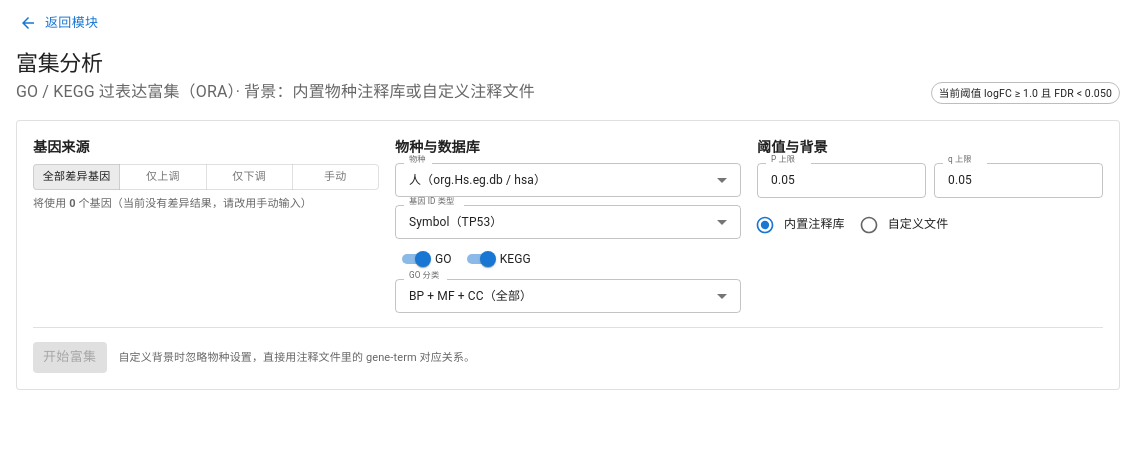
Test case: EnrichPage 运行前校验 › 内置背景关掉 GO 和 KEGG 后报「数据库」
The image size is (1137, 467).
Click the button "手动": (335, 177) [292,164,379,190]
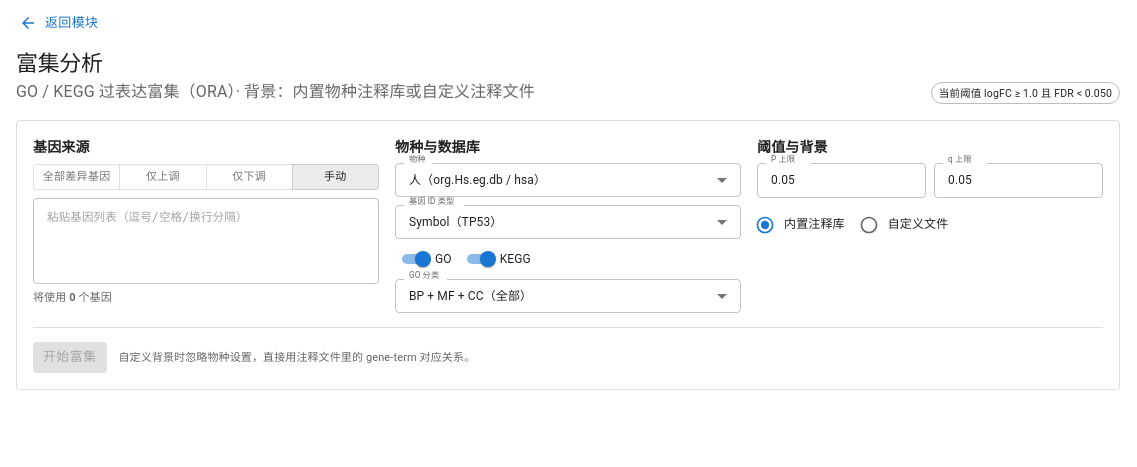
In the text box with placeholder "粘贴基因列表（逗号/空格/换行分隔）": (206, 241) [47,206,365,275], type "TP53 EGFR MYC"
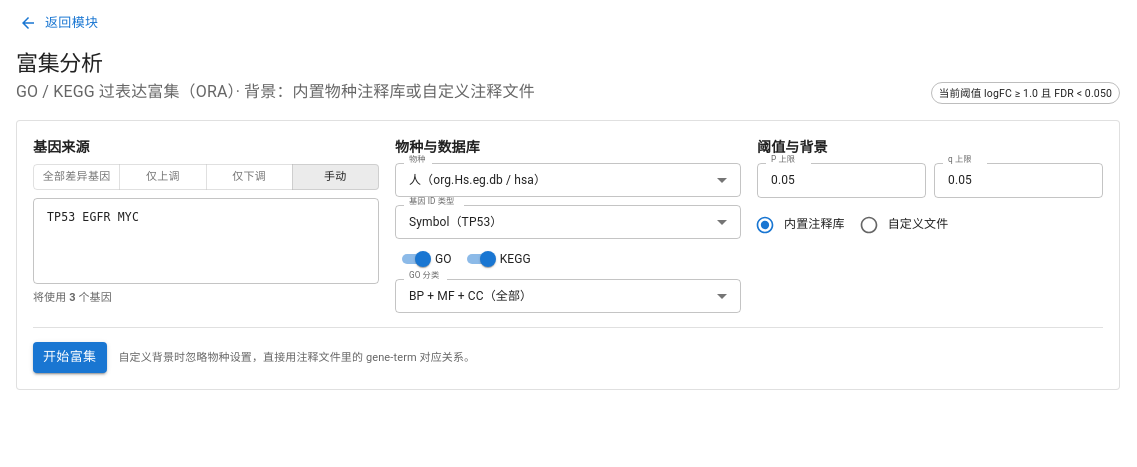
两个开关默认都开，逐个关掉
Click the checkbox labelled "GO": (423, 259) [395,247,452,271]
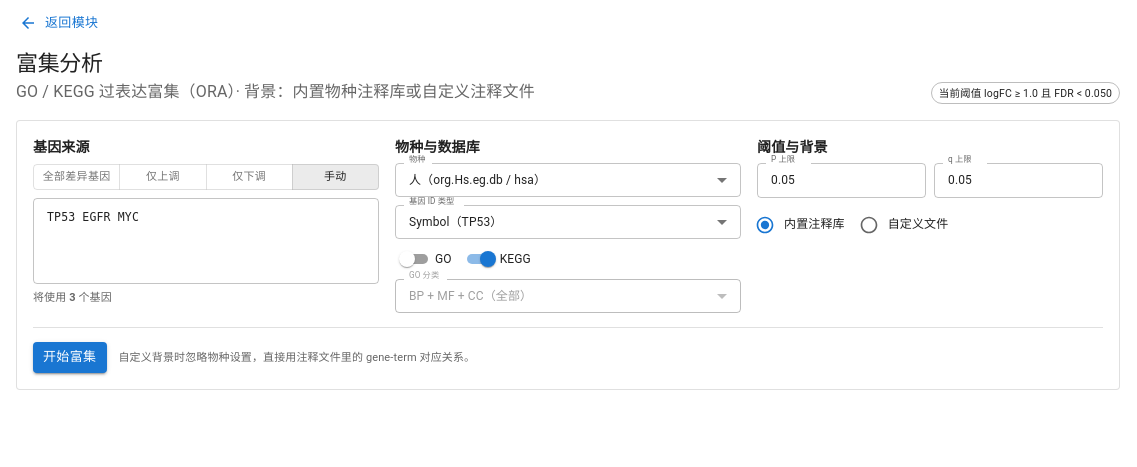
Click the checkbox labelled "KEGG": (495, 259) [460,247,531,271]
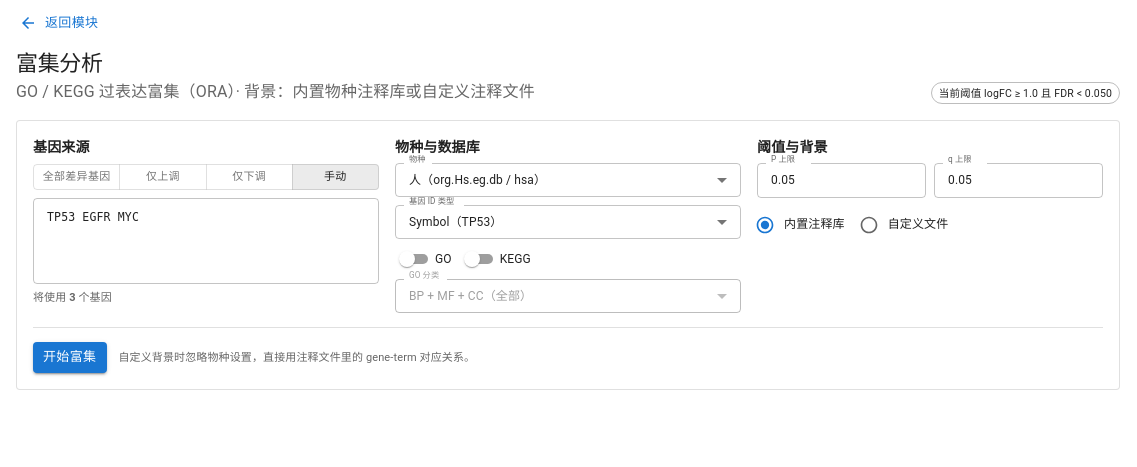
Click the button "开始富集": (70, 358) [33,342,106,373]
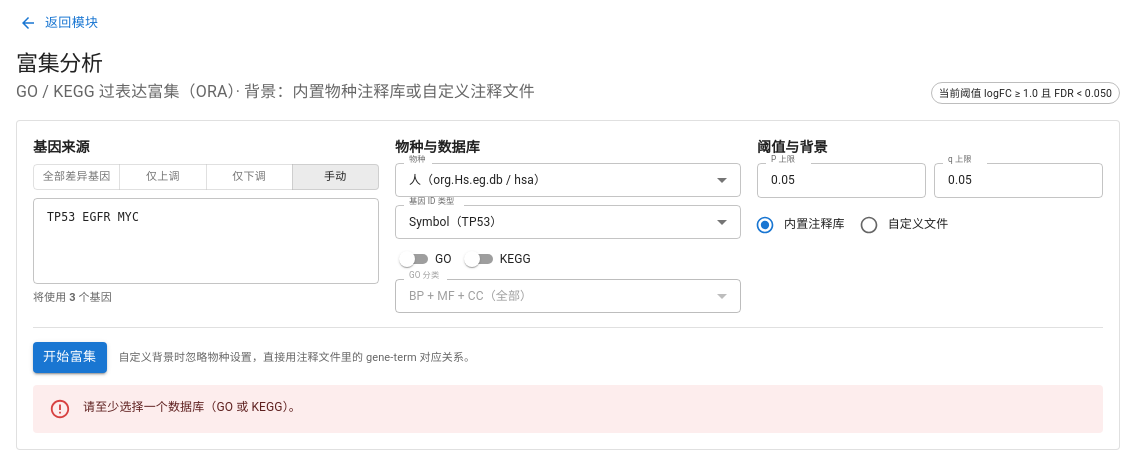
Now the text "请至少选择一个数据库（GO 或 KEGG）。" is shown, box [83,400,301,414]
